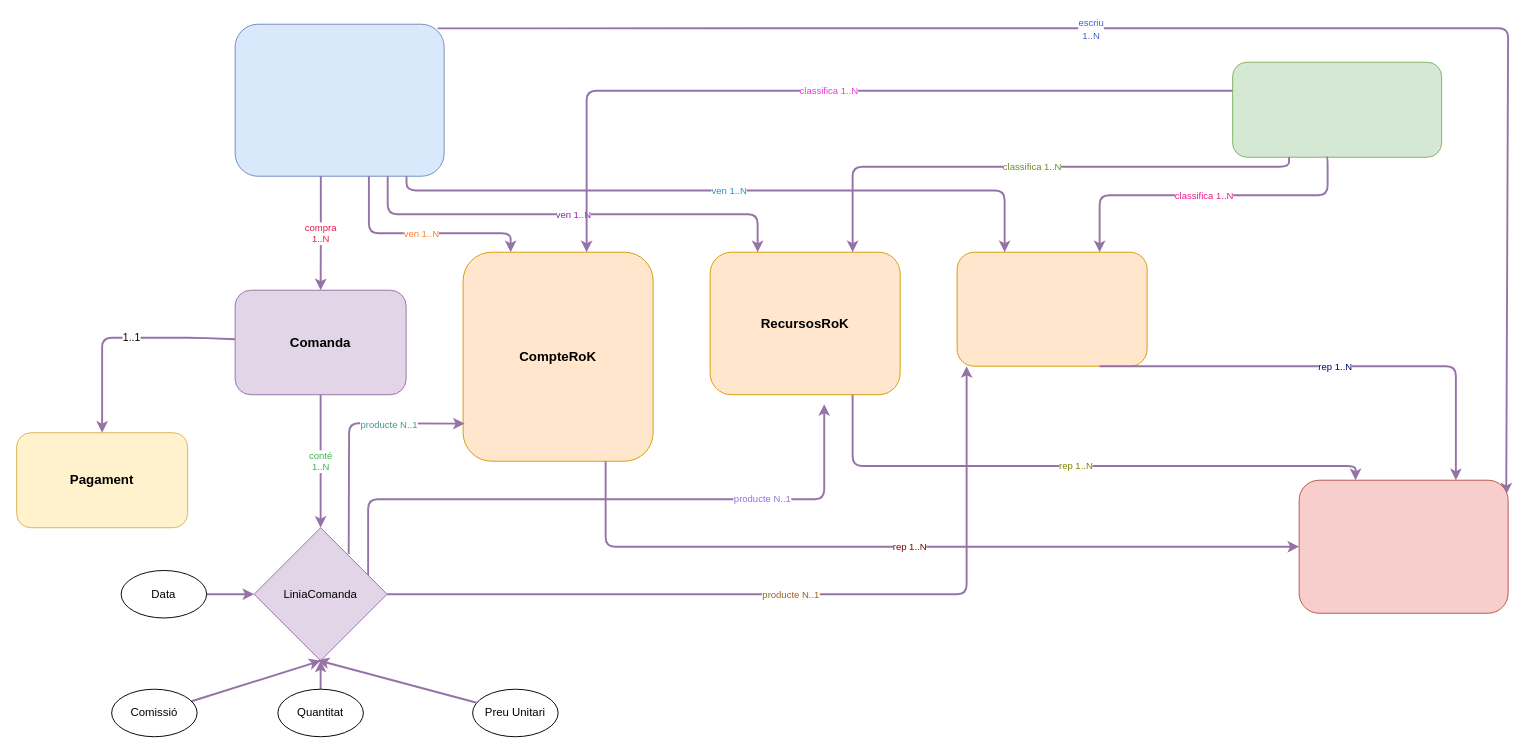
This 1533x753 diagram has some shape labels left out. The centre of each missing label's shape, as x and y in pixels:
BotRoK: pixel 1051 308
Categoria: pixel 1337 109
Ressenya: pixel 1403 546
Usuari: pixel 339 99
